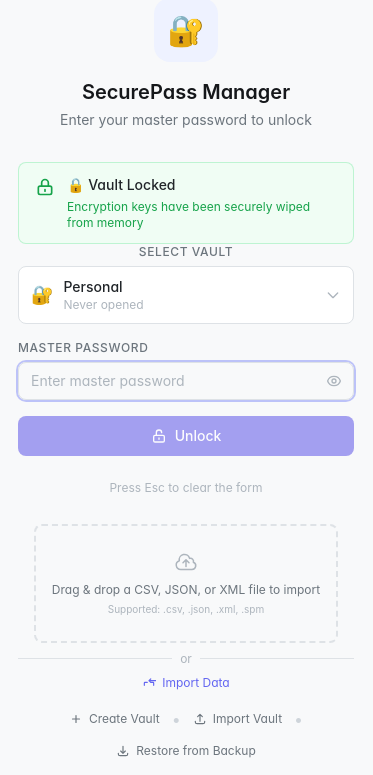
Test case: UX Regression — Multi-Vault Lock Screen & Management › LockScreenPage states › renders vault selector when multiple vaults exist
The width and height of the screenshot is (373, 775).
Expected: the text "Select Vault" is shown, [139,244,233,258]
Click the dropdown. click: [93, 286]
box: [18,266,354,324]
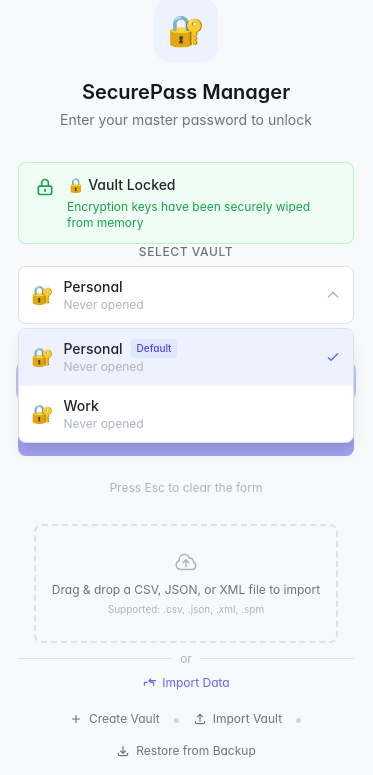
Now the option "🔐 Personal Default Never opened" is shown, box [19,328,353,384]
Now the option "🔐 Work Never opened" is shown, box [19,384,353,442]
